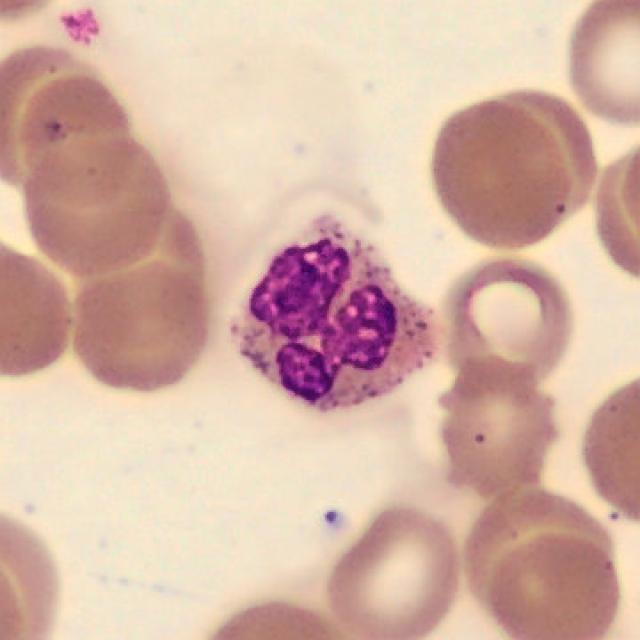Neutrofilo segmentado: (233, 219, 432, 409)
